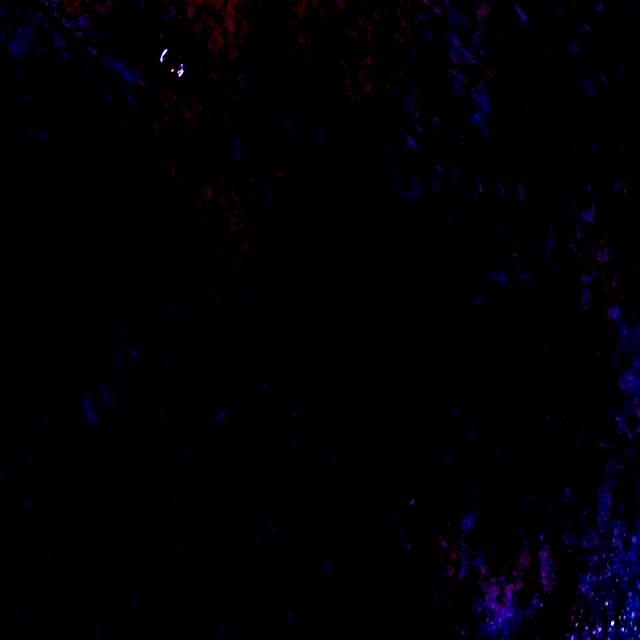NV: (319, 247, 427, 419)
